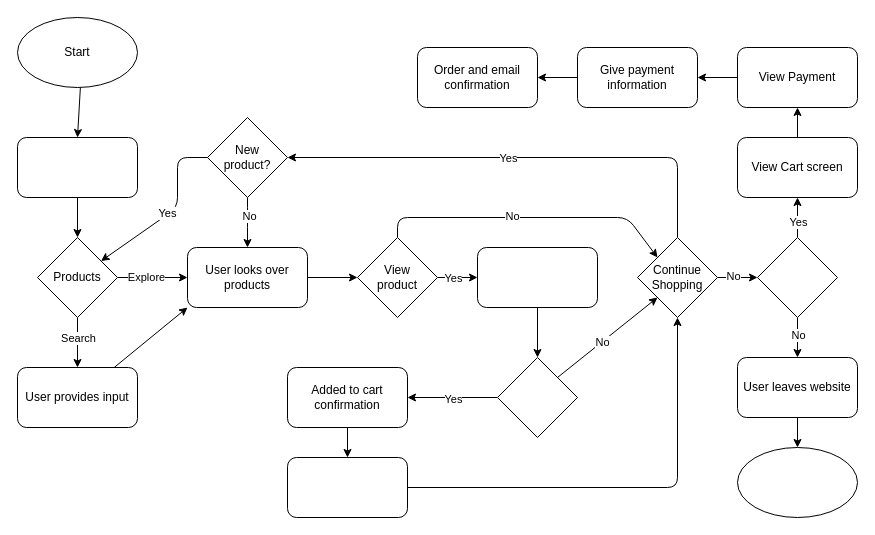
The diagram is 875 pixels wide and 535 high, and some of its shapes have lost their labels. Here are the shapes that lost their labels. From the top down, the centre of each, then its label:
At point 77,167: "User enters website".
At point 537,277: "Product webpage opens".
At point 797,277: "Checkout".
At point 537,397: "Add to cart?".
At point 347,487: "Add to cart".
At point 797,482: "End".
